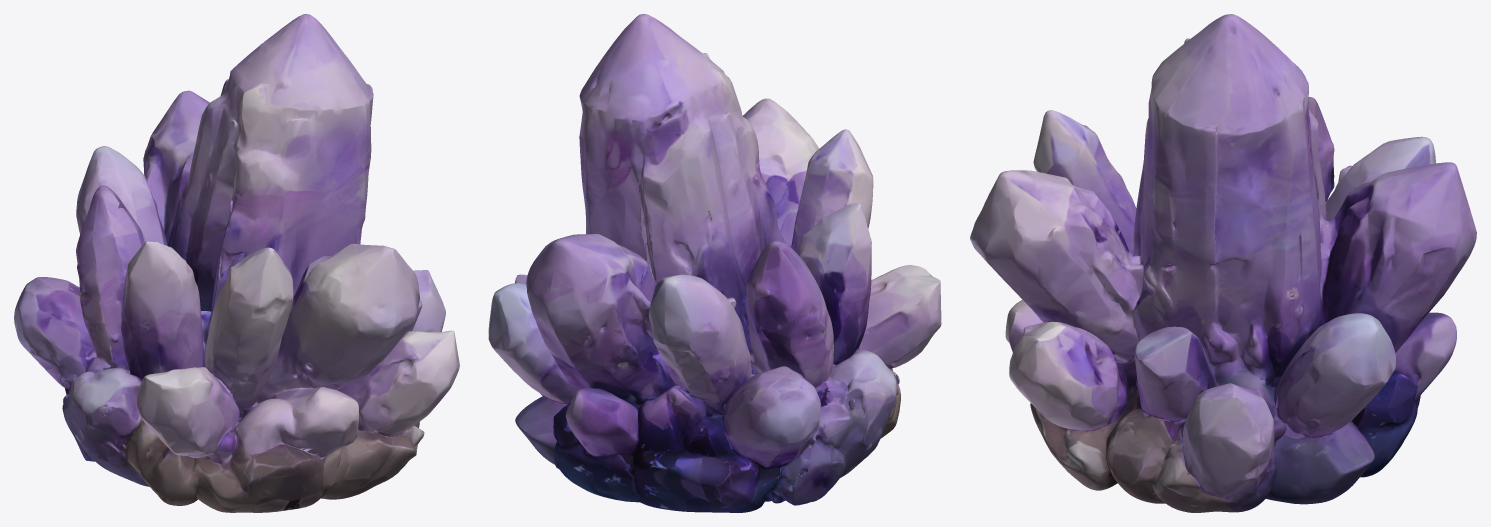
The model's file is prop-crystal-purple.glb.
3 views of the same model, side by side, from view 1: azimuth 30°, elevation 25°; view 2: azimuth 150°, elevation 25°; view 3: azimuth 270°, elevation 25° (orthographic). The views are drawn at different scales.
Visible parts, largest first — view 1: tripo_node_1f7f7c70-de0c-457a-947b-679de27505e9; view 2: tripo_node_1f7f7c70-de0c-457a-947b-679de27505e9; view 3: tripo_node_1f7f7c70-de0c-457a-947b-679de27505e9.
Part boxes in pixels (bbox=[...]): tripo_node_1f7f7c70-de0c-457a-947b-679de27505e9: bbox=[14, 14, 459, 512]; tripo_node_1f7f7c70-de0c-457a-947b-679de27505e9: bbox=[488, 14, 941, 512]; tripo_node_1f7f7c70-de0c-457a-947b-679de27505e9: bbox=[970, 14, 1476, 512].
Bounding box in the file's own units: 1.74 × 2 × 1.89.
1 material, 1 textured.
